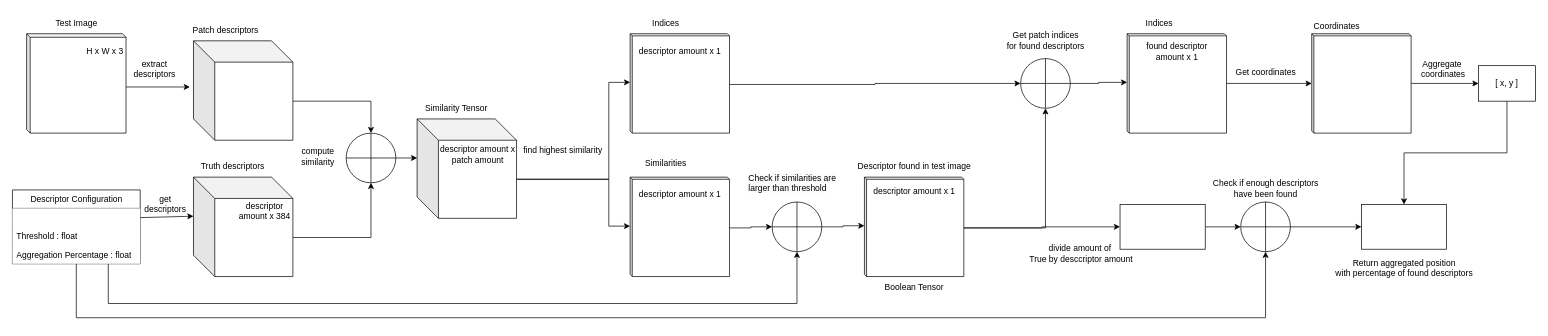
Some shapes in this 1548 by 336 pixel diagram are drawn without their labels. The shapes that lost their labels are listed below. From the top down, each one's centre as x and y in pixels, then its label:
point 243,90: patch amount x 384
point 1361,83: found descriptor amount x 2
point 76,217: Descriptors
point 1162,226: percentage of found descriptors
point 1404,226: [ x, y, percentage]
